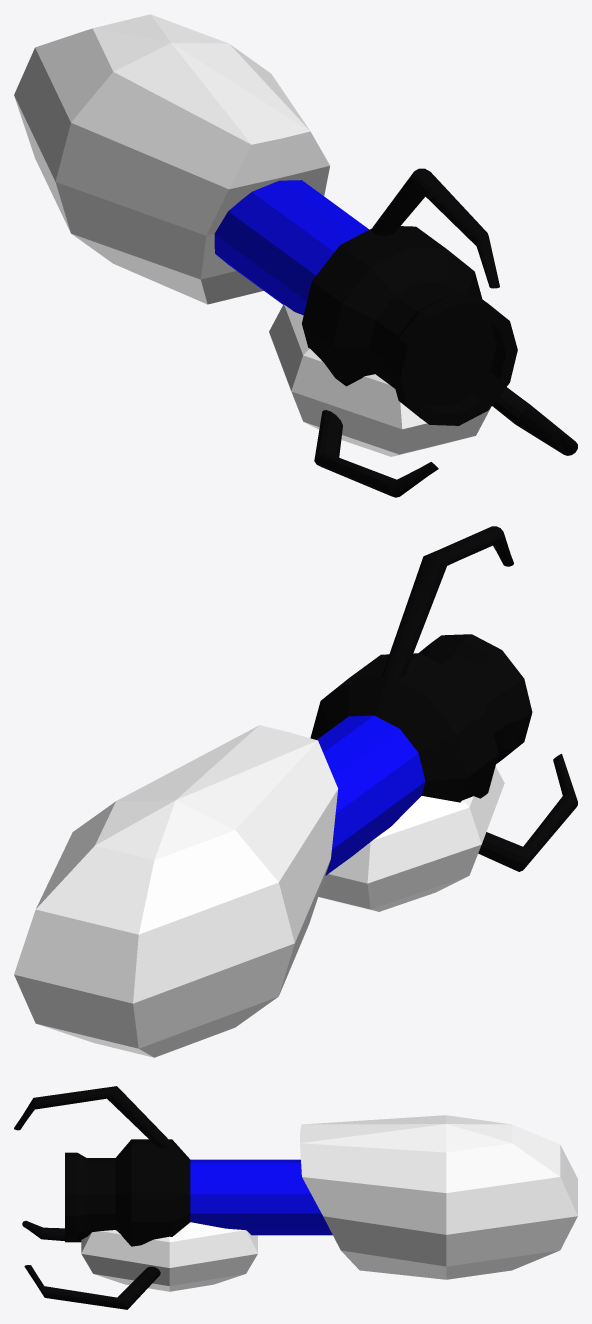
File: PortalGun.fbx
3 views of the same model, one above another, from view 1: azimuth 30°, elevation 25°; view 2: azimuth 150°, elevation 25°; view 3: azimuth 270°, elevation 25° (orthographic). The views are drawn at different scales.
Visible parts, largest first — view 1: PortalGun; view 2: PortalGun; view 3: PortalGun.
Part boxes in pixels (x1,y1,x2,y2): PortalGun: (14,14,577,497); PortalGun: (14,526,577,1057); PortalGun: (14,1086,577,1309).
Bounding box in the file's own units: 60524 × 73789 × 192171.
1 material, 1 textured.
